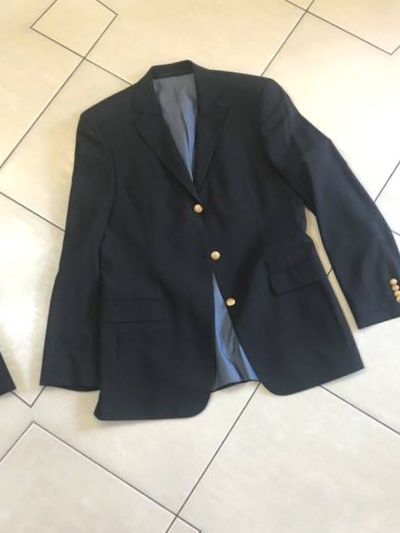Blazer: (0, 20, 400, 451), (0, 78, 31, 510)
